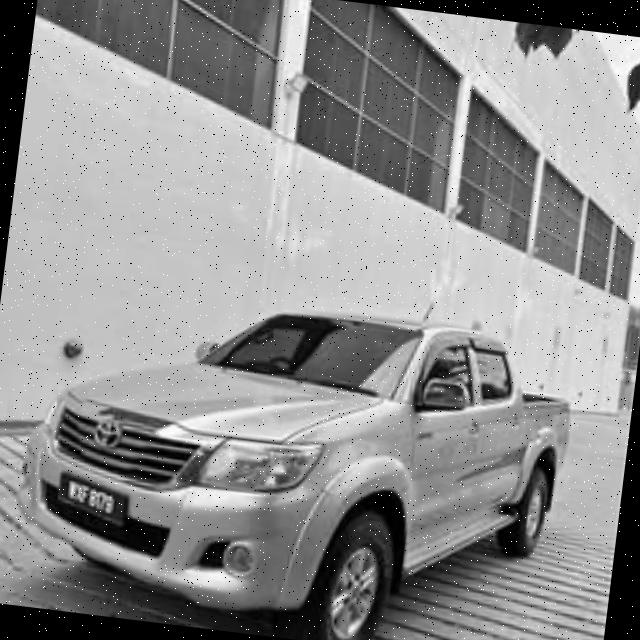License_Plate: (54, 471, 132, 529)
car: (1, 273, 581, 640)
